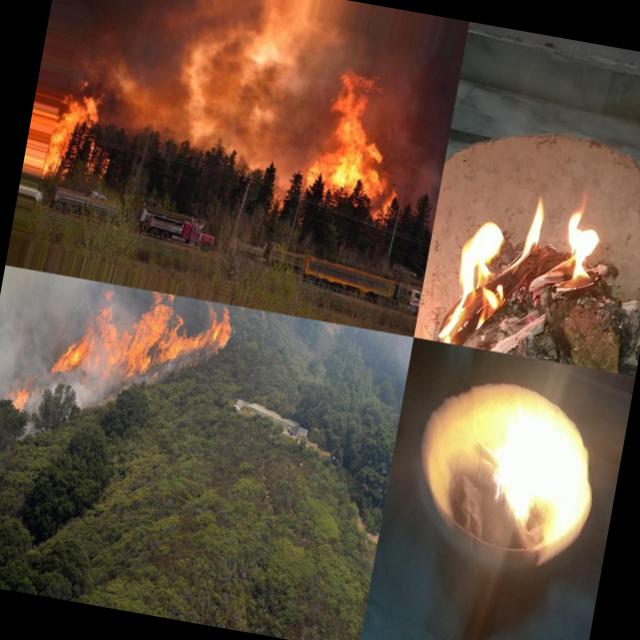fire: (437, 180, 608, 366), (480, 392, 590, 524), (120, 288, 239, 402), (306, 74, 412, 198), (47, 286, 133, 383), (41, 78, 110, 187), (7, 370, 35, 416)
smoke: (103, 0, 352, 164), (363, 7, 468, 154), (23, 371, 116, 446)
